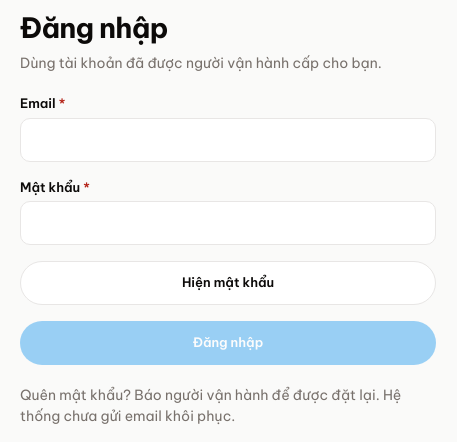
Test case: TC-WEB-025 — password sign-in › shows and hides the password without changing its value
Type "khong-duoc-mat" into the password field labelled "Mật khẩu *" at (228, 223), box [20,201,436,245]
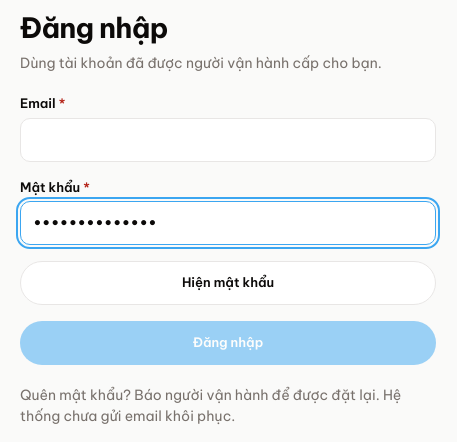
Click the button "Hiện mật khẩu" at (228, 283), box [20,261,436,305]
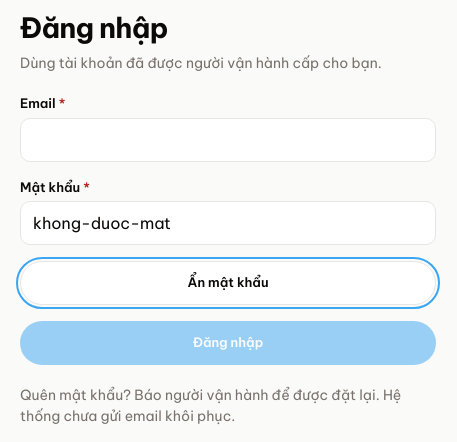
Check: the field labelled "Mật khẩu *" shows its text, box [20,201,436,245]
Click the button "Ẩn mật khẩu" at (228, 283), box [20,261,436,305]
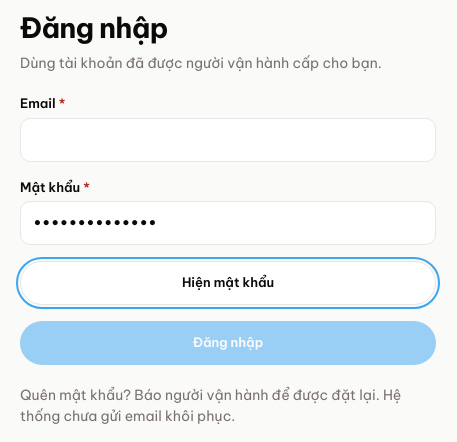
Check: the password field labelled "Mật khẩu *" hides its text, box [20,201,436,245]
